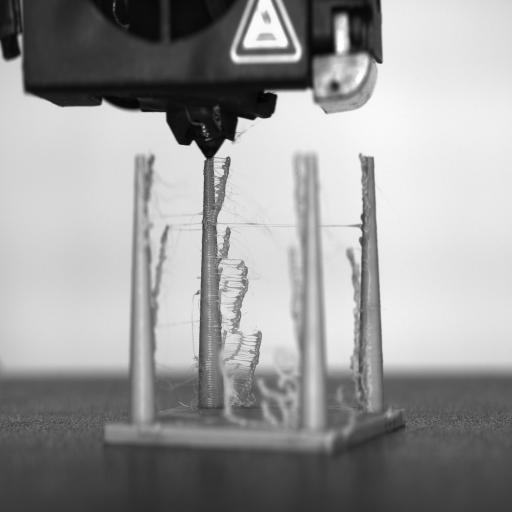spaghetti_and_stringing: (141, 159, 353, 413)
